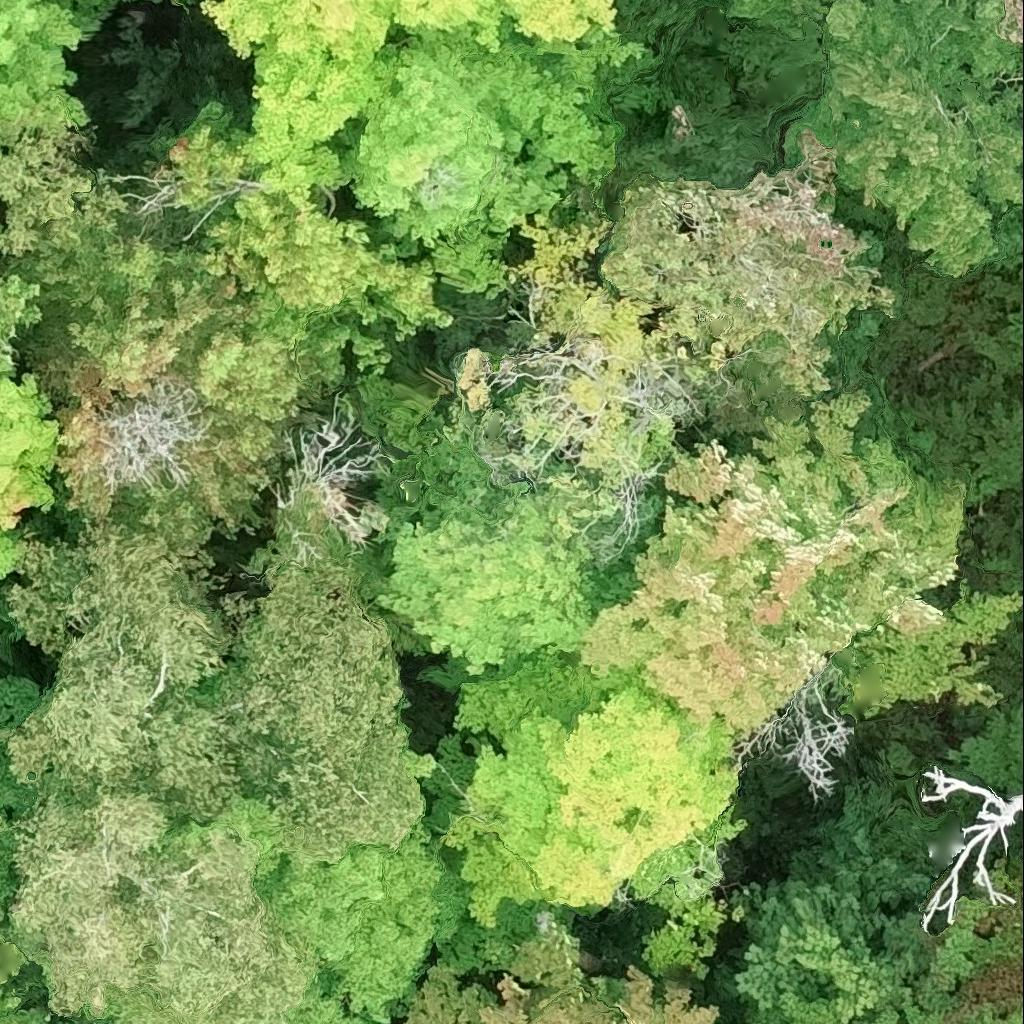crown: (577, 388, 1021, 739), (444, 655, 748, 976), (57, 244, 349, 552), (204, 0, 621, 207), (600, 130, 898, 400), (0, 518, 257, 830), (354, 17, 646, 283), (156, 125, 446, 373), (220, 559, 425, 865), (501, 226, 713, 512), (215, 799, 443, 1023), (378, 456, 592, 676), (103, 824, 320, 1023), (733, 826, 952, 1023), (7, 786, 176, 1021), (403, 927, 719, 1023), (916, 766, 1023, 929), (0, 130, 119, 260), (932, 859, 1023, 1023), (0, 369, 60, 586), (284, 426, 383, 550), (99, 384, 203, 500), (0, 0, 84, 105), (0, 742, 37, 948), (950, 697, 1023, 795), (0, 276, 41, 379), (749, 995, 842, 1023), (967, 994, 1023, 1023), (903, 1001, 948, 1023), (870, 1002, 897, 1023), (63, 1012, 111, 1023)
